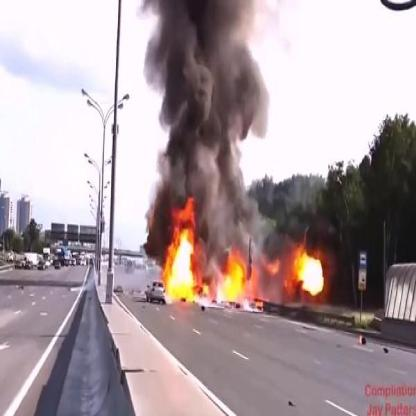fire: (161, 196, 198, 306), (220, 242, 251, 314), (289, 248, 327, 300), (257, 246, 283, 281), (198, 275, 210, 298), (253, 296, 265, 311)
